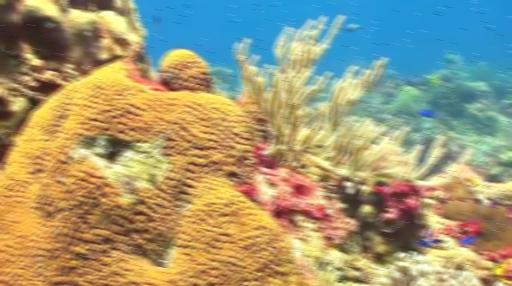Fish: (418, 228, 442, 246), (418, 238, 442, 246), (460, 235, 477, 245), (419, 109, 435, 117), (347, 23, 359, 32), (154, 15, 159, 24)
